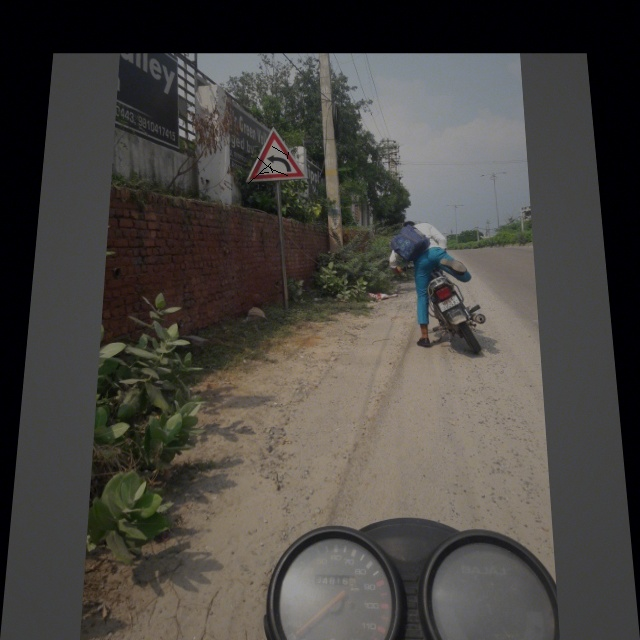Left_Hand_Curve: (243, 127, 308, 186)
